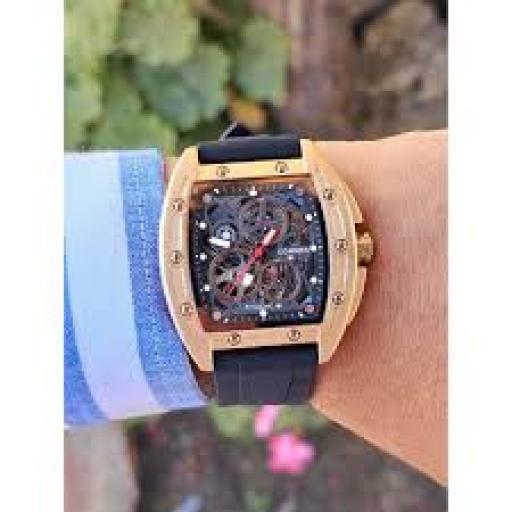KolSaati: (91, 64, 404, 473)
